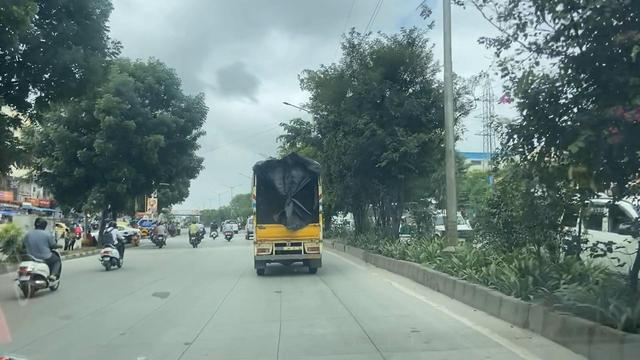HMV: (248, 131, 348, 302)
